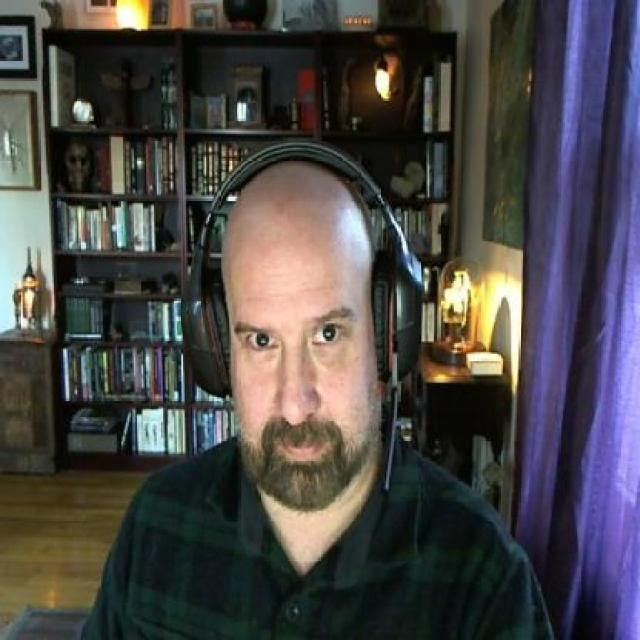earphone: (158, 115, 447, 382)
